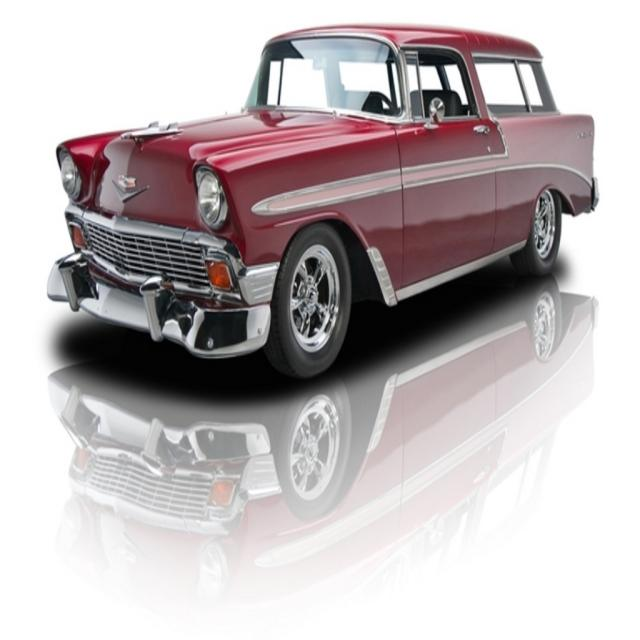car: (46, 21, 586, 388)
